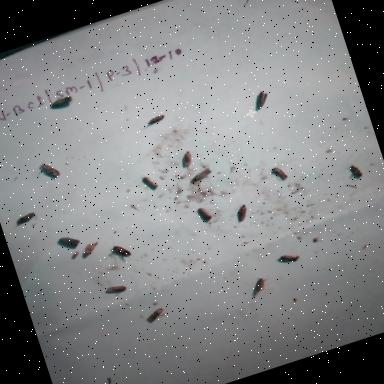pbw: (242, 87, 276, 116), (264, 160, 296, 188), (106, 240, 134, 267), (35, 157, 63, 183), (341, 160, 368, 186), (55, 231, 83, 253), (247, 274, 272, 296), (142, 110, 170, 129), (78, 238, 101, 260), (187, 166, 213, 184), (275, 249, 300, 267), (143, 306, 167, 324), (139, 172, 160, 192), (176, 148, 196, 169), (48, 94, 74, 110), (193, 204, 213, 224), (232, 202, 252, 222), (13, 210, 38, 226), (104, 280, 128, 296), (68, 249, 82, 260)
